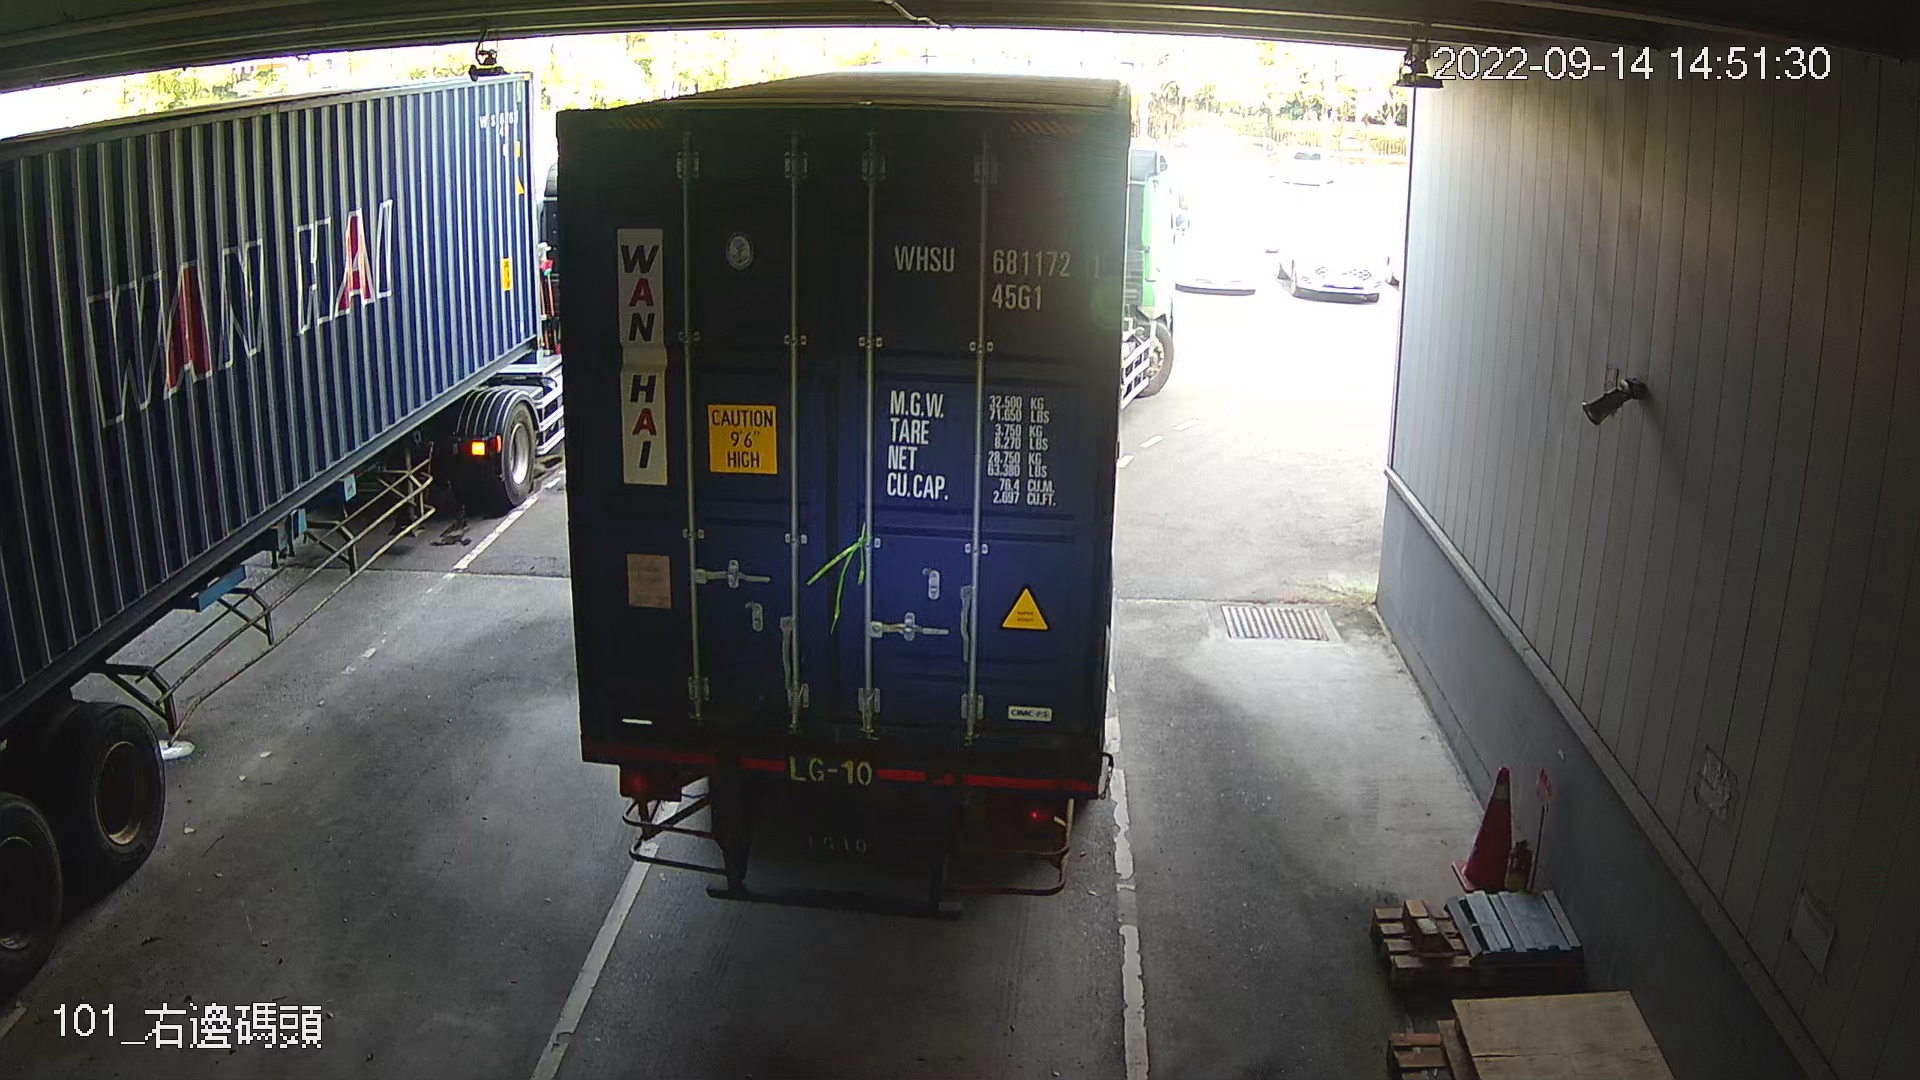container: (884, 235, 1106, 319)
